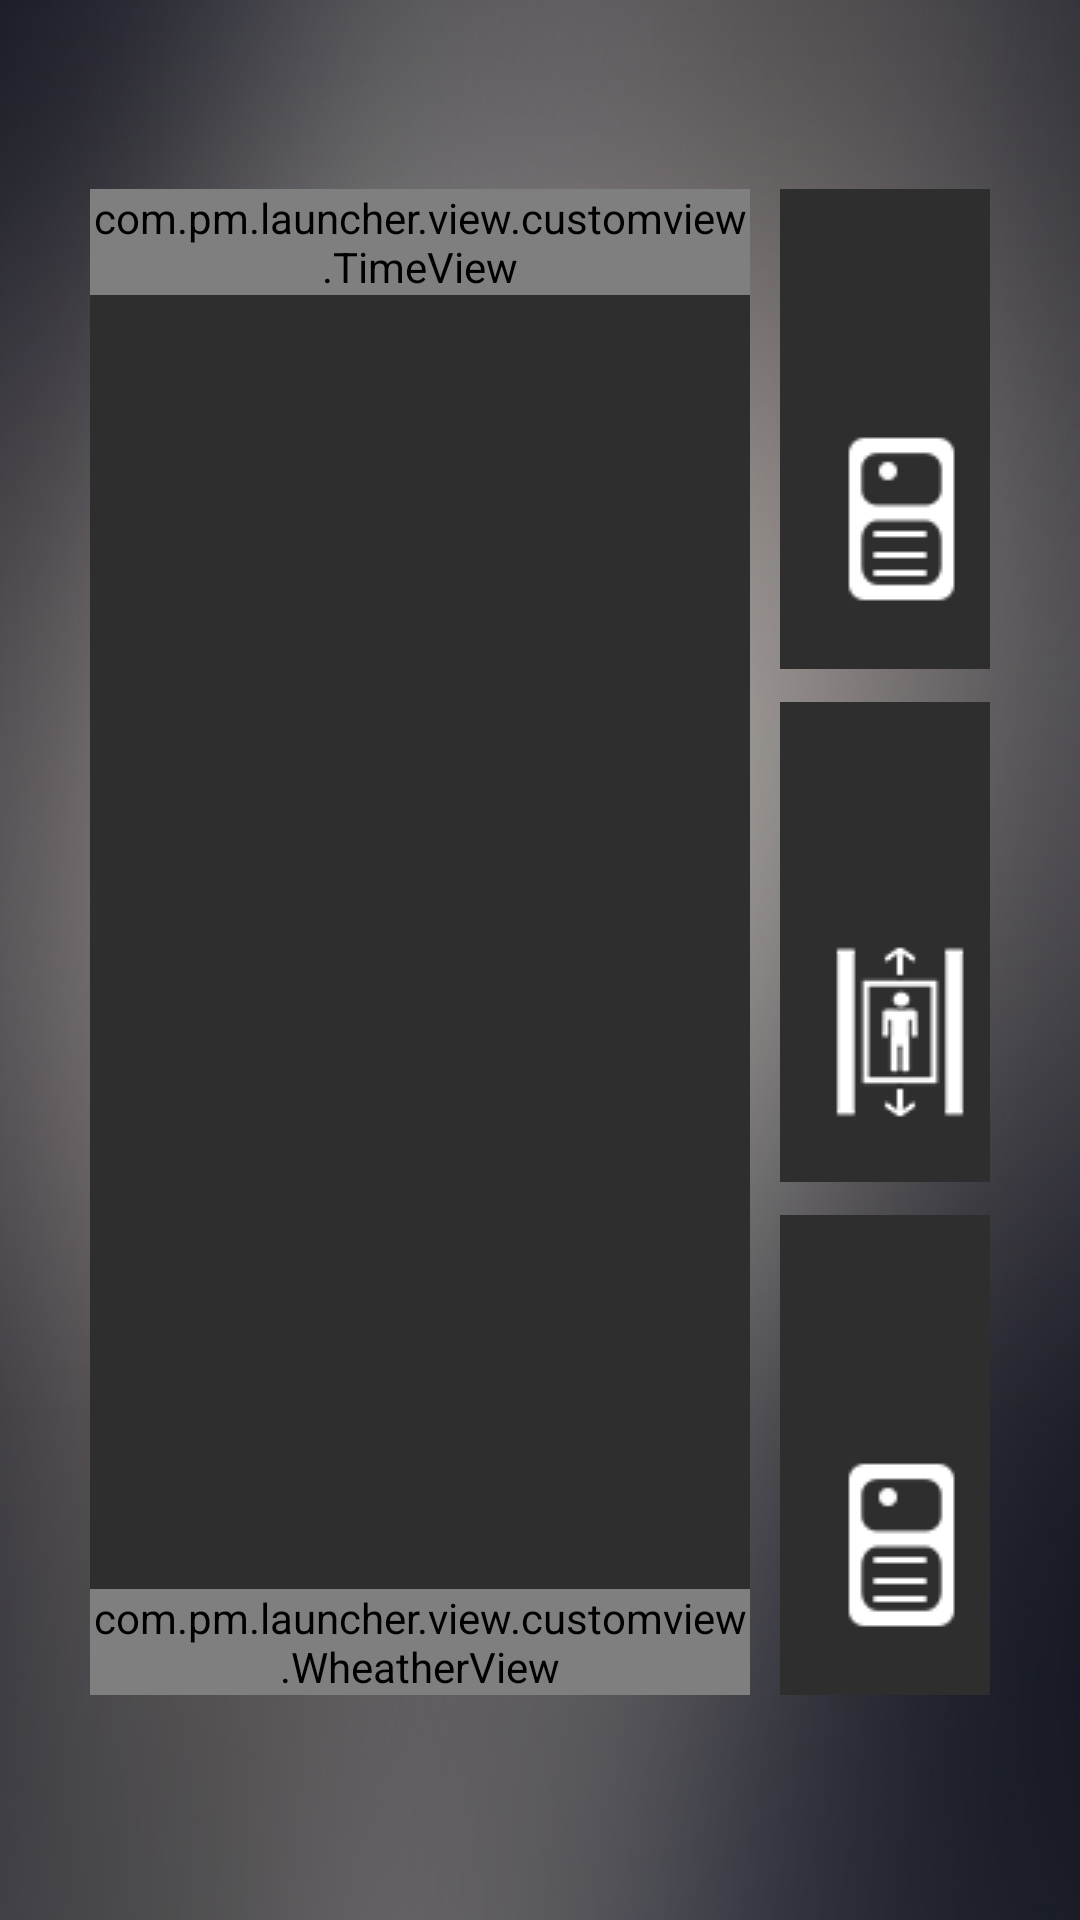

Icon click points for this 1080x1920 phone screenshot, format [x,y]:
electric lift control: [900,1032]
